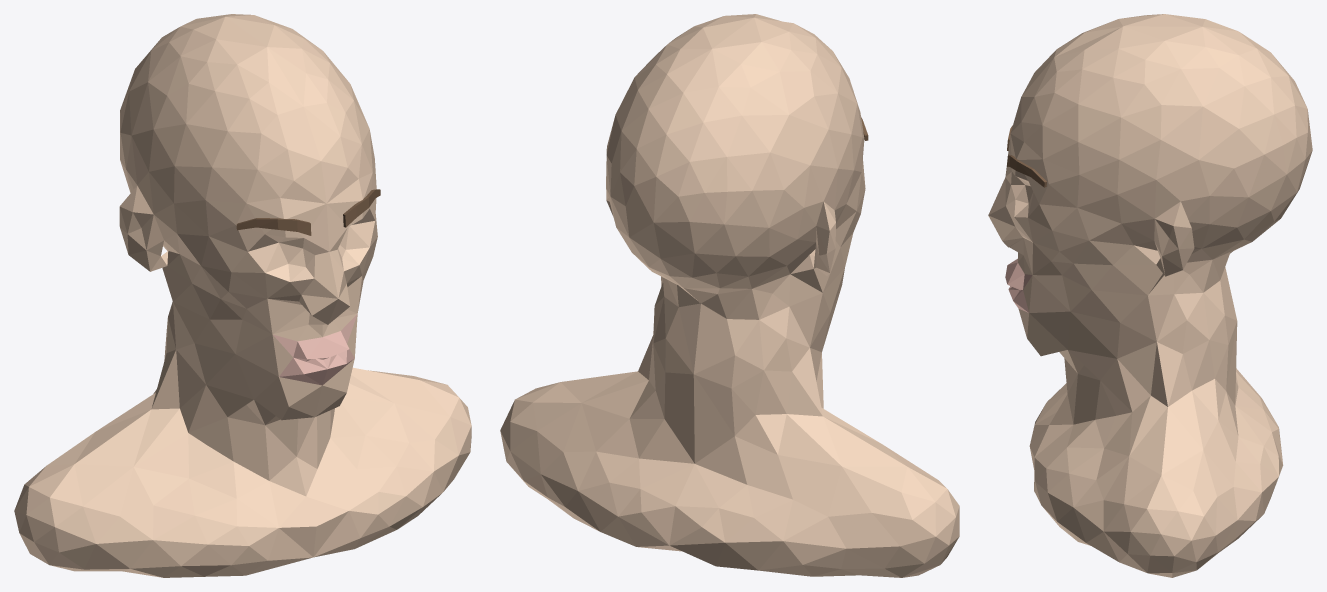
File: collapse_clean.glb
The picture shows the model from 3 angles, left to right: view 1: azimuth 30°, elevation 25°; view 2: azimuth 150°, elevation 25°; view 3: azimuth 270°, elevation 25°; orthographic projection. The views are drawn at different scales.
Visible parts, largest first — view 1: Head_Main, Eyebrow_R; view 2: Head_Main; view 3: Head_Main, Eyebrow_L.
Boxes of the visible parts, x1,y1,x2,y2 form: Head_Main: (14,14,471,577); Eyebrow_R: (236,218,311,235); Head_Main: (500,14,959,577); Head_Main: (988,14,1312,577); Eyebrow_L: (1007,155,1046,187).
Size of the model in its own units: 0.3192 by 0.3391 by 0.2144.
